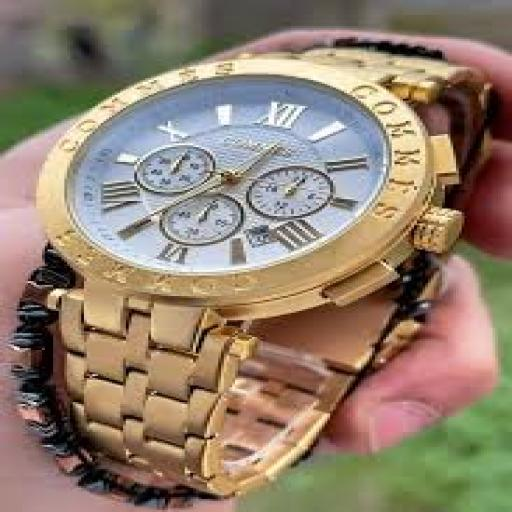KolSaati: (4, 13, 458, 495)
